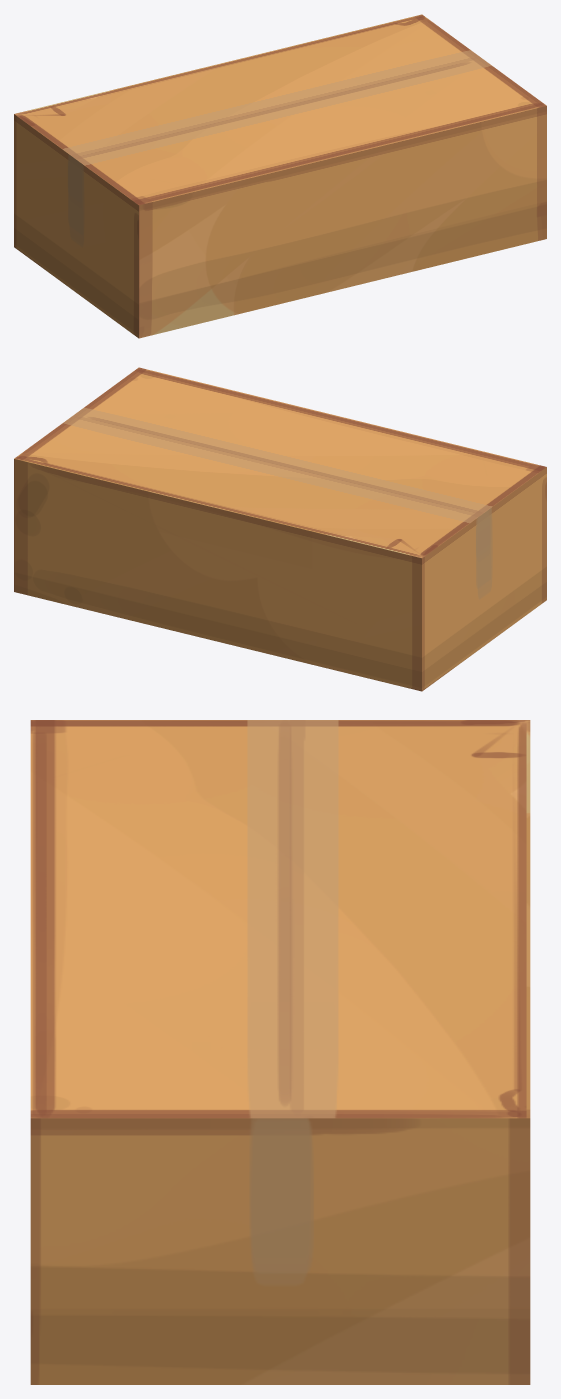
3 views of the same model, one above another, from view 1: azimuth 30°, elevation 25°; view 2: azimuth 150°, elevation 25°; view 3: azimuth 270°, elevation 25° (orthographic). The views are drawn at different scales.
Parts seen in each view (by area): view 1: Box_06_collision; view 2: Box_06_collision; view 3: Box_06_collision.
Boxes of the visible parts, bbox=[...] form: Box_06_collision: bbox=[14, 14, 546, 338]; Box_06_collision: bbox=[14, 367, 546, 691]; Box_06_collision: bbox=[30, 720, 530, 1384].
Bounding box in the file's own units: 1.21 × 0.3775 × 0.6416.
